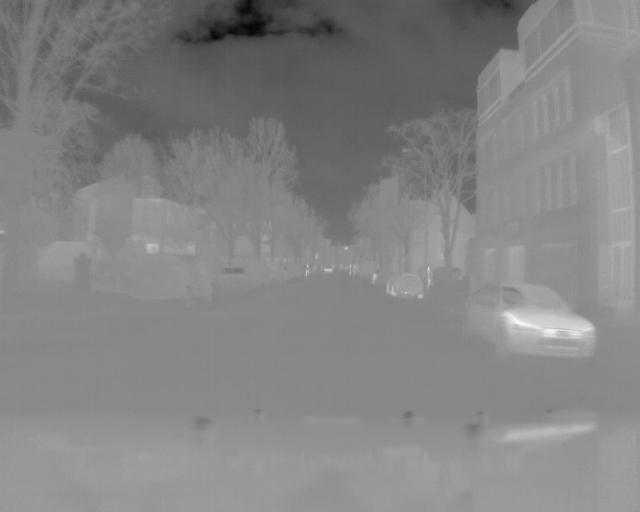car: (456, 279, 599, 363), (383, 269, 426, 304)
